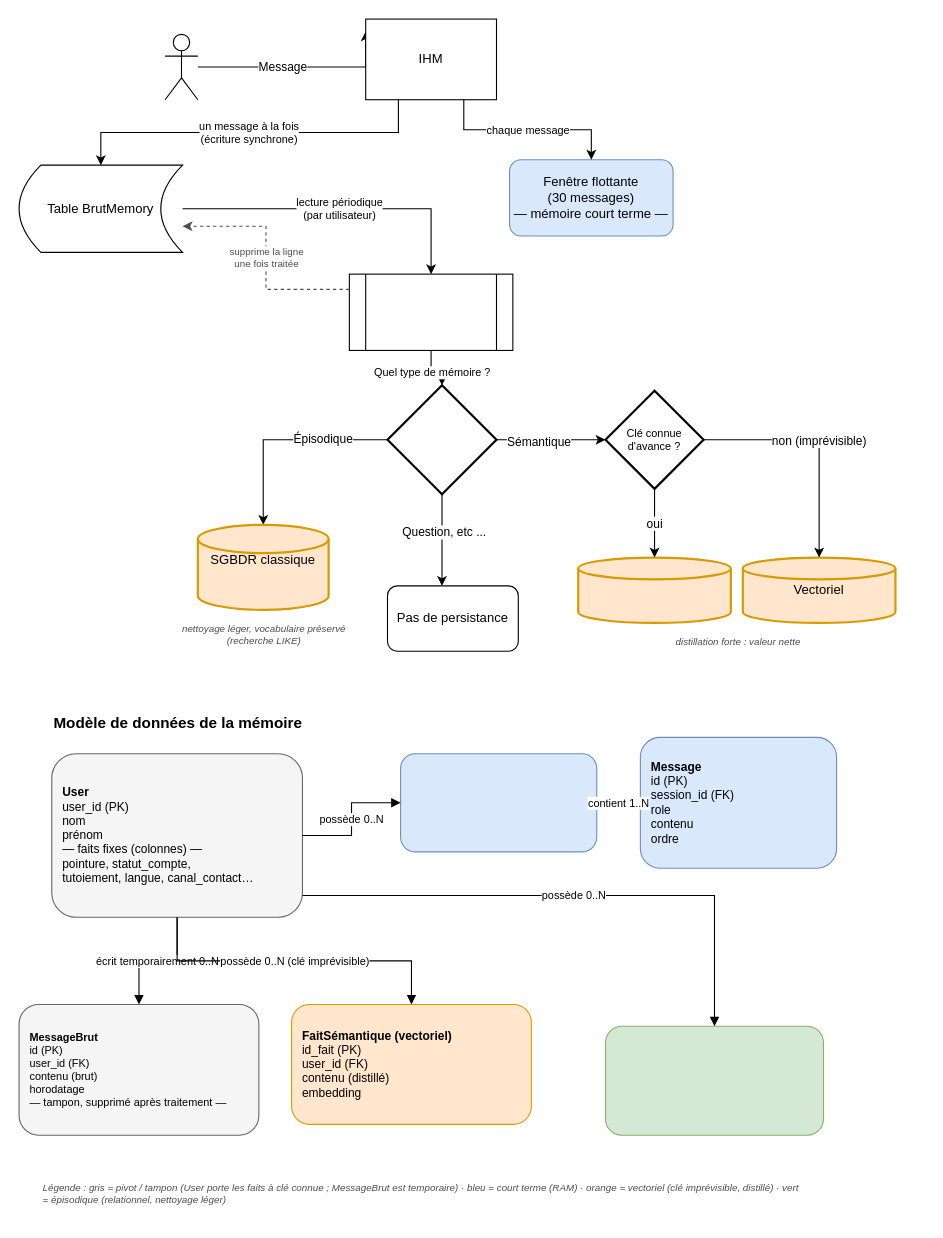
Image size: 943x1238. Some labels were removed from this diagram. Each missing label, with the centre of its shape:
Actor: (x=181, y=66)
Petit LLM asynchrone classifie + retraite (degré variable selon destination): (x=430, y=311)
Session session_id (PK) user_id (FK) date: (x=498, y=802)
User (colonne): (x=654, y=589)
Épisode id_episode (PK) user_id (FK) contenu (nettoyé léger) date: (x=713, y=1080)
